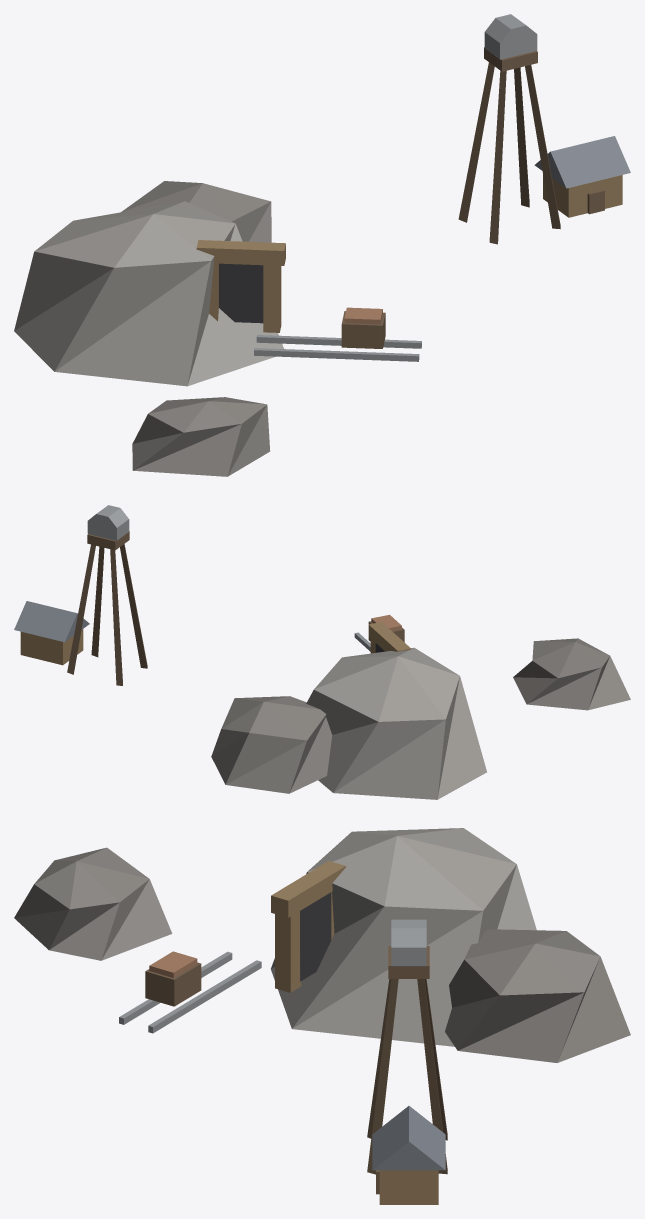
File: mine.glb
The picture shows the model from 3 angles, top to bottom: view 1: azimuth 30°, elevation 25°; view 2: azimuth 150°, elevation 25°; view 3: azimuth 270°, elevation 25°; orthographic projection. The views are drawn at different scales.
Parts seen in each view (by area): view 1: LOD0; view 2: LOD0; view 3: LOD0.
Part boxes in pixels (x1,y1,x2,y2): LOD0: (14, 14, 630, 476); LOD0: (14, 505, 630, 799); LOD0: (14, 828, 630, 1204).
Size of what is drawn, in the model's own units: 1.4 by 0.4836 by 1.04.
